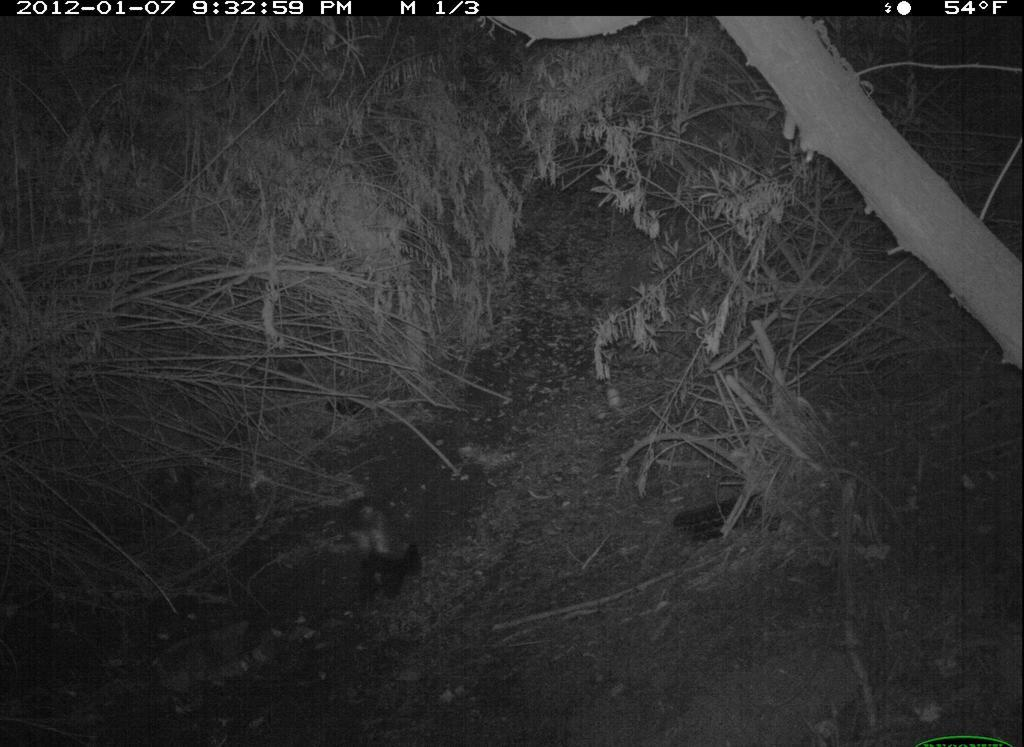skunk: (329, 488, 434, 611)
